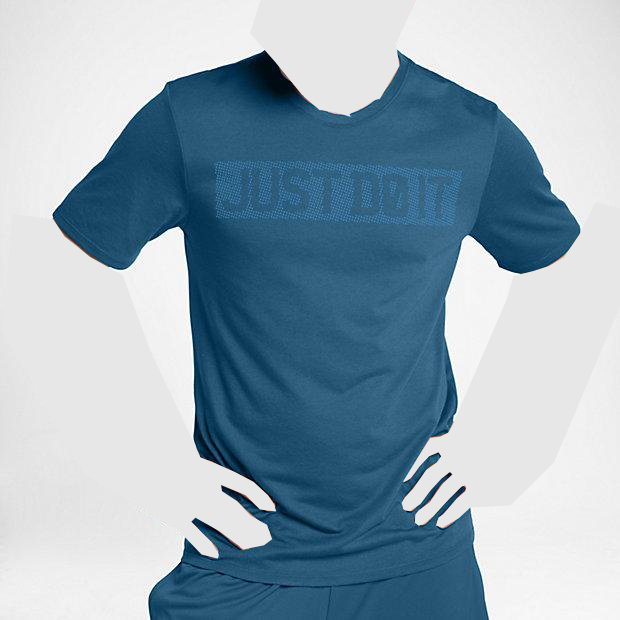teeshirt: (50, 51, 586, 587)
